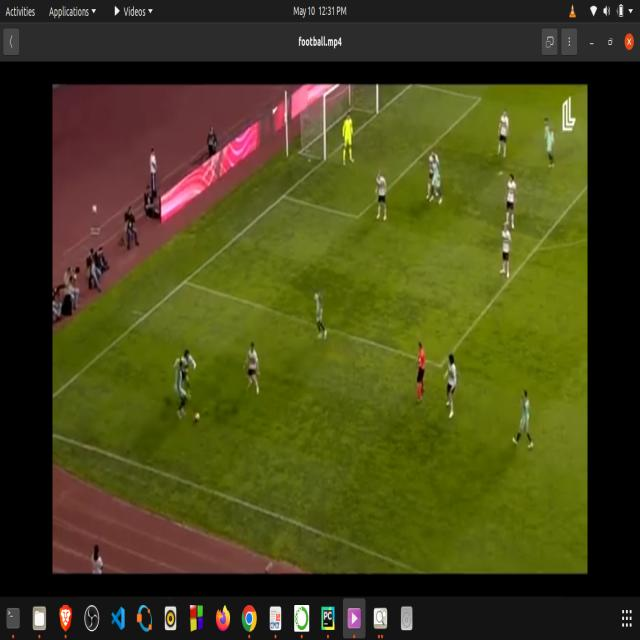Ball: (194, 411, 201, 429)
Goalkeeper: (341, 108, 360, 172)
Refree: (510, 377, 537, 457), (442, 349, 461, 423), (413, 336, 429, 406)
football-players: (426, 146, 448, 208), (542, 112, 559, 178), (172, 358, 192, 414), (503, 170, 521, 232), (373, 165, 392, 222), (244, 337, 262, 397), (313, 290, 332, 345), (497, 107, 512, 164), (178, 348, 196, 394), (499, 224, 513, 283)
